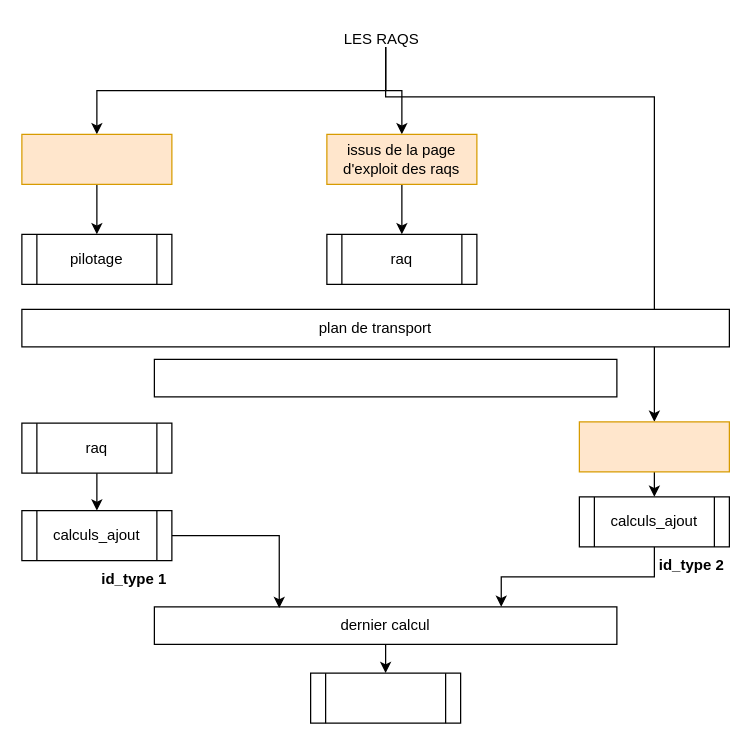
Some shapes in this 751 by 745 pixel diagram are drawn without their labels. The centre of each missing label's shape, as x and y in pixels:
ajout de magasin: the point at 653,446
calculs: the point at 385,697
issus de la prépa: the point at 96,158
saisie raq et pole: the point at 385,377
